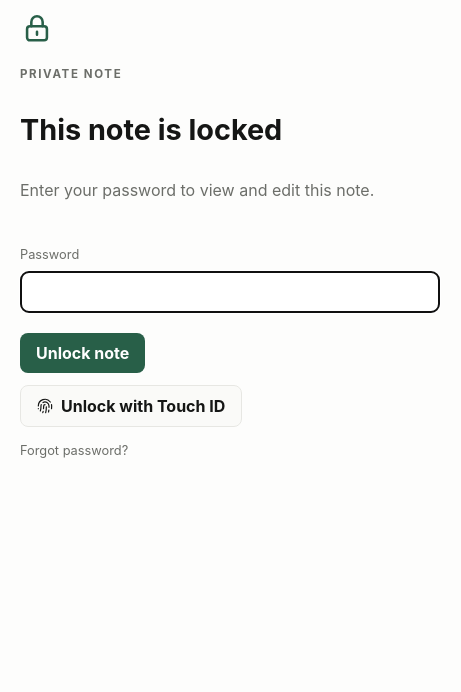
PrivateNoteGate › resets a forgotten password with Touch ID when there is no recovery key
Click the button "Forgot password?": (74, 451) top-left (20, 439), bottom-right (128, 463)
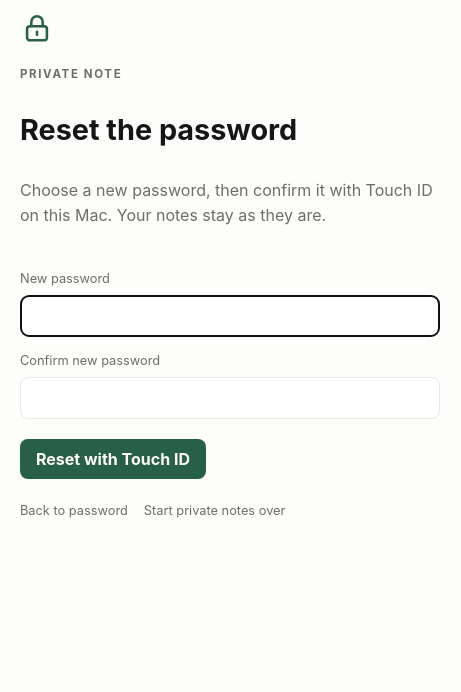
Expected: the field labelled "Recovery key" is not shown
In the password field labelled "New password": (230, 316) top-left (20, 295), bottom-right (440, 337), type "new password"
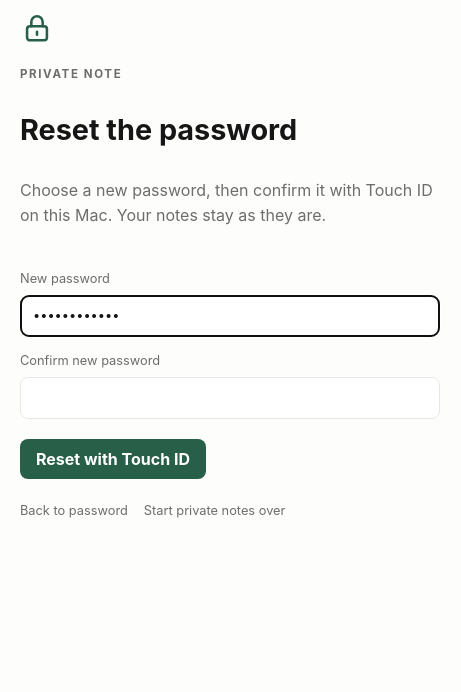
In the password field labelled "Confirm new password": (230, 398) top-left (20, 377), bottom-right (440, 419), type "new password"
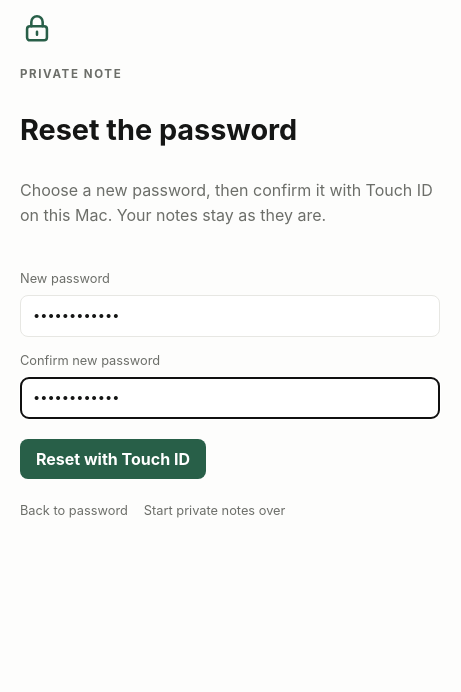
Click the button "Reset with Touch ID": (113, 459) top-left (20, 439), bottom-right (206, 479)
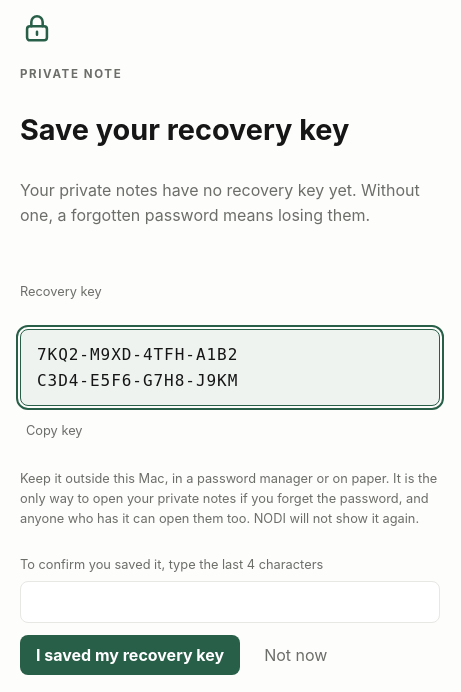
Expected: the text "no recovery key yet" is shown, top-left (20, 180), bottom-right (420, 225)
